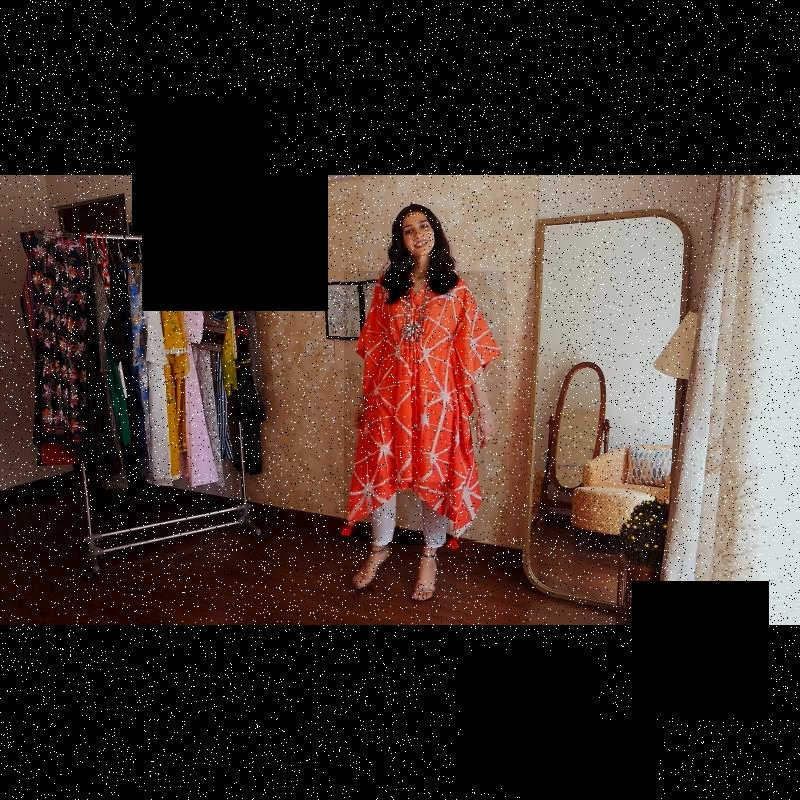Jeans: (396, 483, 450, 545), (371, 496, 394, 543)
Kurta: (344, 271, 506, 541)
